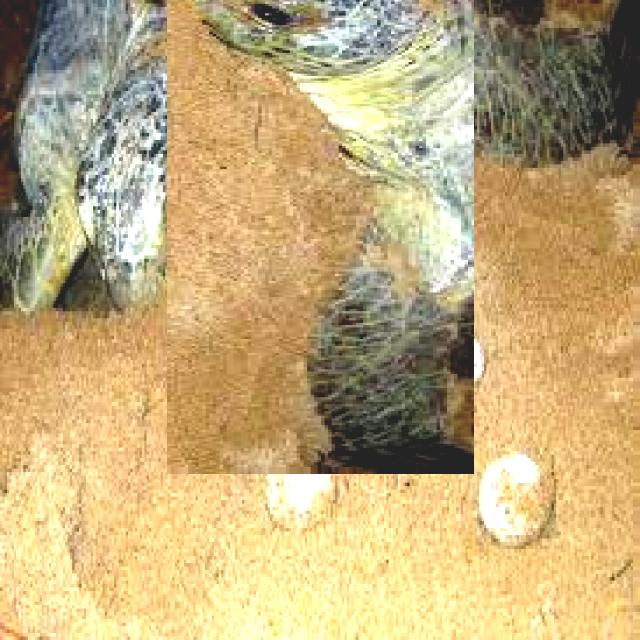Sea turtle: (83, 0, 557, 391)
